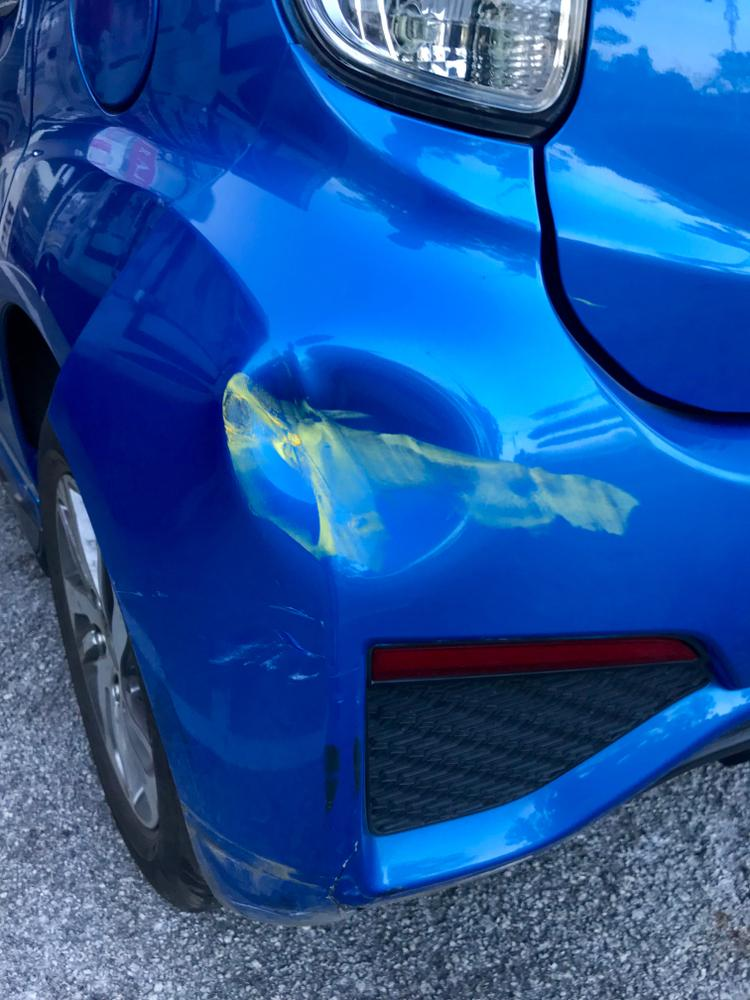crack: (329, 838, 369, 916)
dent: (229, 346, 487, 577)
scratch: (182, 807, 302, 897), (212, 601, 331, 682), (318, 735, 361, 817)
